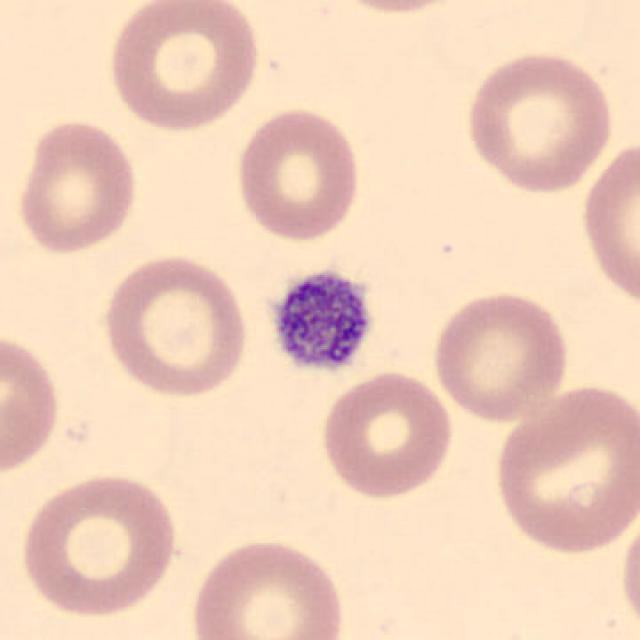Platelets: (263, 265, 377, 379)
RBC: (489, 379, 638, 559), (16, 467, 183, 621), (460, 46, 617, 196), (98, 250, 252, 400), (103, 0, 265, 134), (428, 287, 572, 425), (231, 102, 366, 244), (316, 367, 457, 502), (12, 115, 142, 258), (186, 534, 348, 640), (576, 134, 638, 314), (0, 328, 64, 481), (615, 501, 640, 638), (318, 0, 475, 16)
